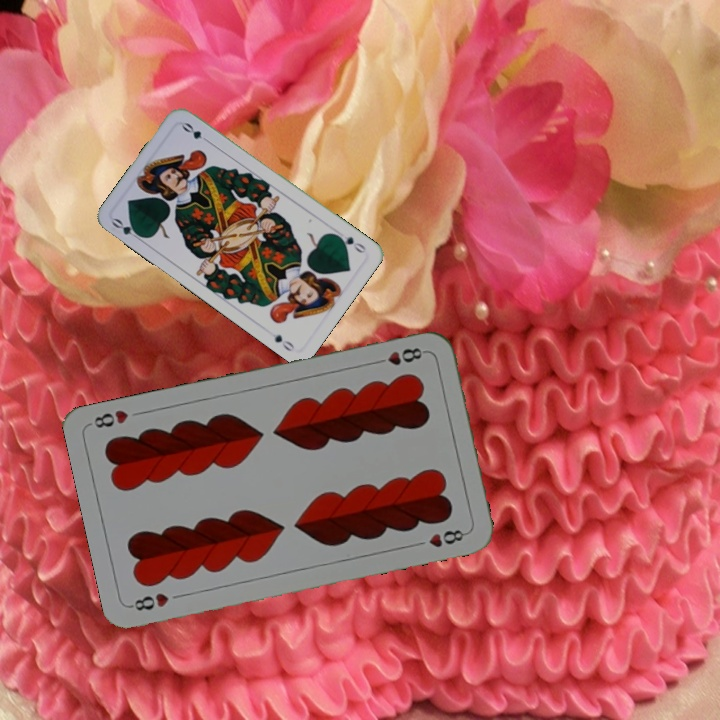GO: (108, 214, 146, 244), (331, 230, 368, 256)
H8: (370, 343, 429, 368), (127, 588, 172, 614)
